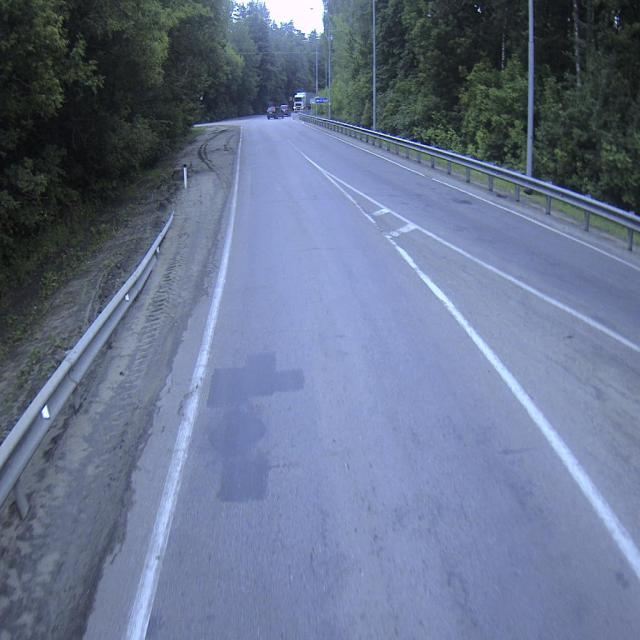road: (84, 114, 640, 639)
